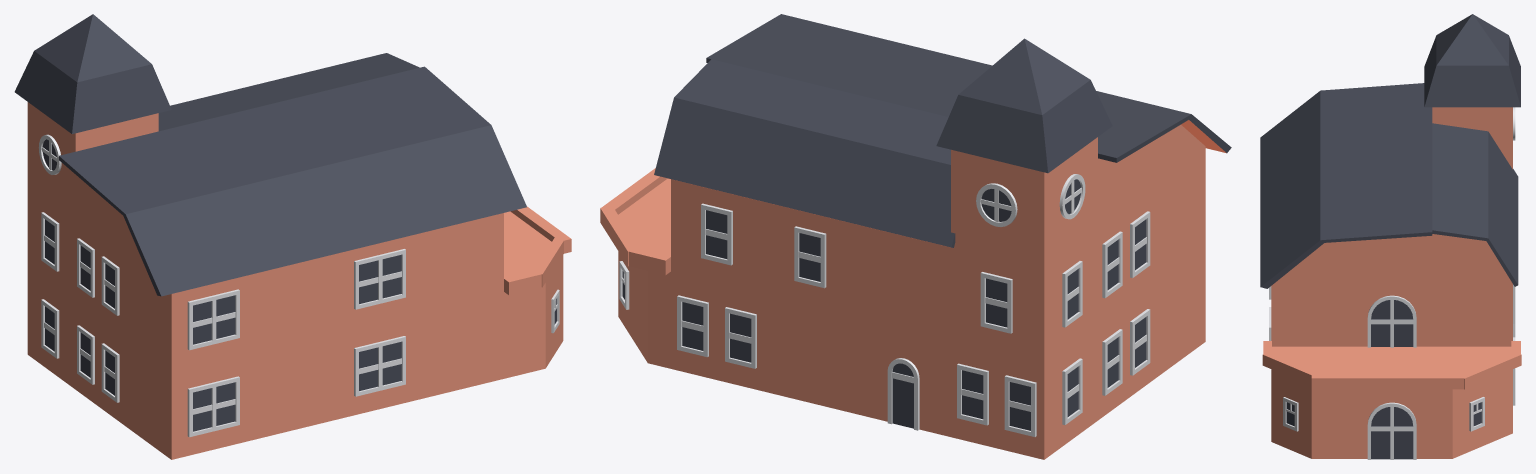
The model's file is grosseMaison.fbx.
3 renders of one model, left to right at view 1: azimuth 30°, elevation 25°; view 2: azimuth 150°, elevation 25°; view 3: azimuth 270°, elevation 25°, orthographic. The views are drawn at different scales.
Parts seen in each view (by area): view 1: roof_barn_88, roof_point_divided_87, block_58, block_67, block_59, block_73, block_66, block_74, roof_barn_89, block_60, block_corner_small_77, block_86 (+17 smaller); view 2: roof_barn_89, roof_barn_88, roof_point_divided_87, block_68, block_86, block_51, block_49, block_69, block_50, block_63, block_76, block_75 (+20 smaller); view 3: roof_barn_88, roof_barn_89, roof_point_divided_87, roof_flat_largeSide_94, block_76, block_74, block_corner_small_77, block_corner_large_78, block_64, block_79, door_rounded_wide_90, door_rounded_wide_91 (+7 smaller).
Part boxes in pixels (x1,y1,x2,y2): roof_barn_88: (59,66,526,296); roof_point_divided_87: (14,14,171,133); block_58: (123,338,254,459); block_67: (123,251,254,372); block_59: (254,332,337,439); block_73: (421,292,503,398); block_66: (254,253,337,352); block_74: (421,213,503,311); roof_barn_89: (158,53,419,131); block_60: (337,312,420,419); block_corner_small_77: (504,255,563,378); block_86: (27,102,158,215); roof_barn_89: (654,59,955,248); roof_barn_88: (706,14,1231,224); roof_point_divided_87: (936,38,1112,173); block_68: (951,225,1097,362); block_86: (951,137,1097,264); block_51: (951,323,1097,459); block_49: (764,294,857,414); block_69: (857,225,950,339); block_50: (857,317,950,436); block_63: (764,202,857,316); block_76: (671,179,764,293); block_75: (671,271,764,391); roof_barn_88: (1260,83,1432,288); roof_barn_89: (1432,123,1518,286); roof_point_divided_87: (1424,14,1520,107); roof_flat_largeSide_94: (1311,346,1464,389); block_76: (1432,279,1512,346); block_74: (1271,279,1351,346); block_corner_small_77: (1271,369,1351,458); block_corner_large_78: (1432,369,1512,458); block_64: (1352,279,1432,346); block_79: (1352,389,1432,458); door_rounded_wide_90: (1367,402,1416,459); door_rounded_wide_91: (1367,295,1416,347).
Size of the model in its own units: 53.07 by 40 by 32.43.
